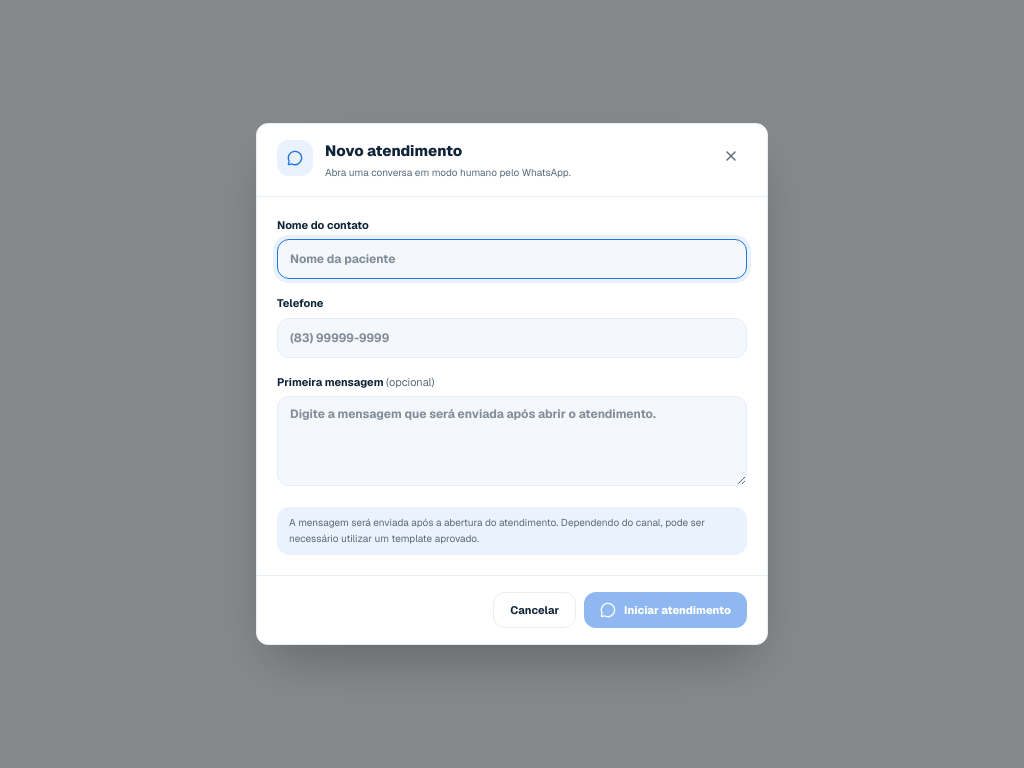
Scenario: IniciarAtendimentoDialog › should_require_name_and_phone_focus_name_and_keep_the_initial_message_optional
Check: the button "Iniciar atendimento" is disabled, box 584,592 -> 747,628
In the field labelled "Nome do contato": {"x": 512, "y": 259} 277,239 -> 747,279, type "Maria Teste"
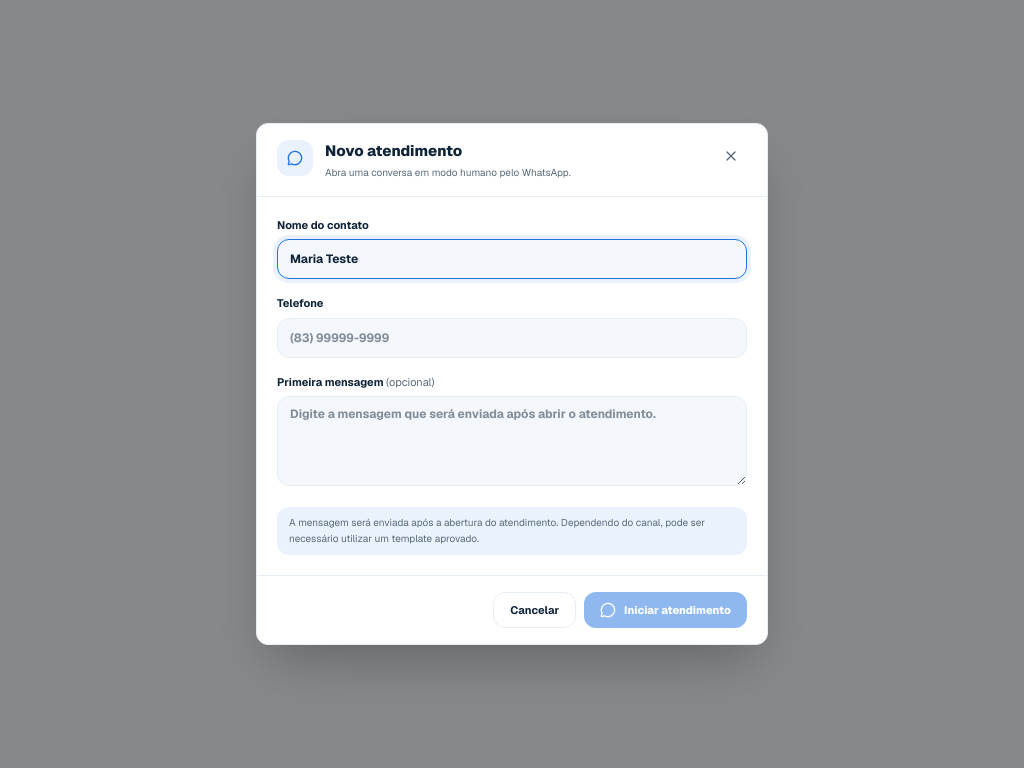
In the field labelled "Telefone": {"x": 512, "y": 338} 277,318 -> 747,358, type "83999999999"
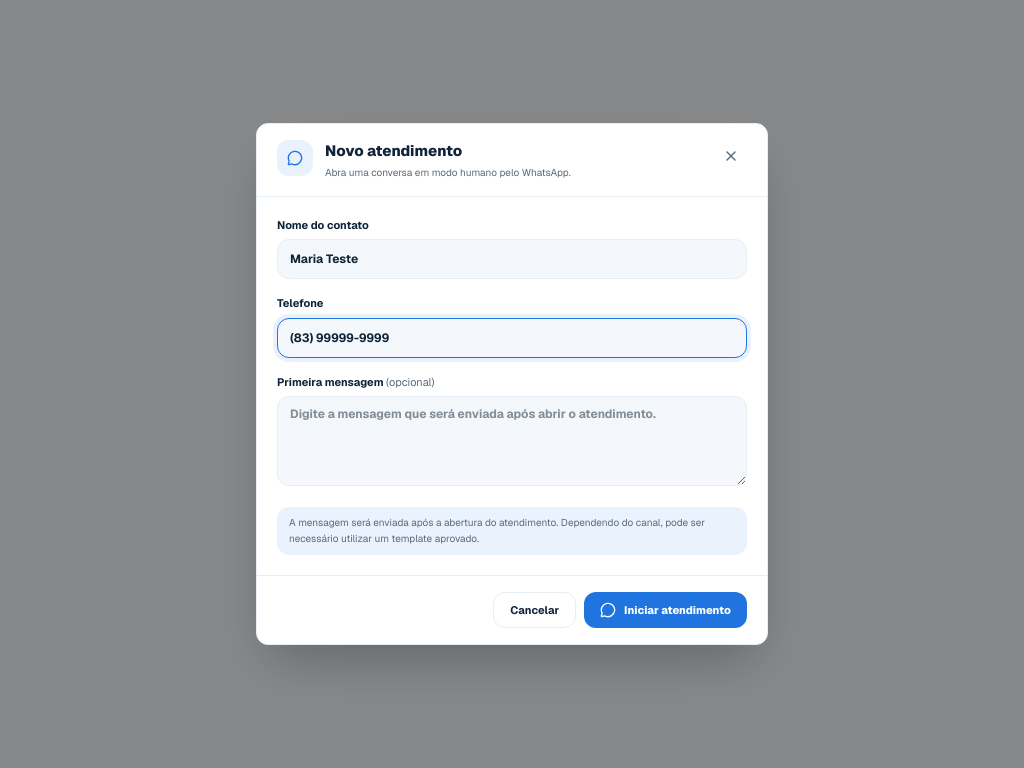
Check: the text box labelled "Primeira mensagem (opcional)" is empty, box 277,396 -> 747,486
Check: the button "Iniciar atendimento" is enabled, box 584,592 -> 747,628
